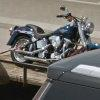Motorcycle: (8, 6, 96, 68)
